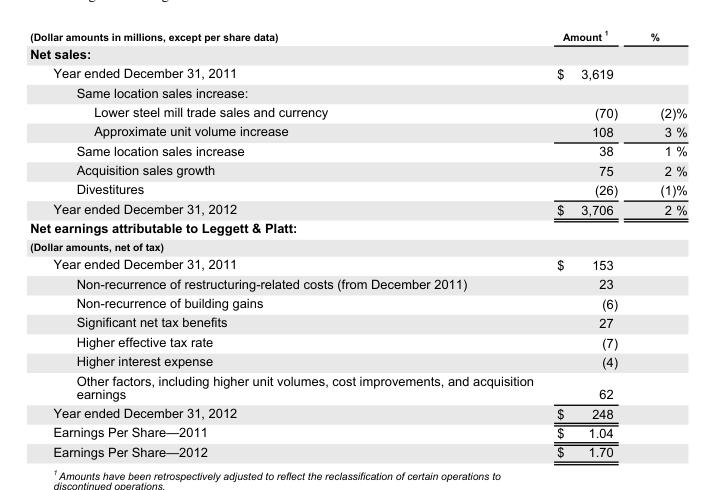table: (29, 28, 686, 459)
table column: (29, 28, 544, 459), (544, 28, 659, 459), (659, 28, 686, 459)
table column header: (29, 28, 686, 43)
table projected row header: (29, 43, 686, 62), (29, 82, 686, 101), (29, 218, 686, 237), (29, 237, 686, 254)
table row: (29, 370, 686, 403), (29, 62, 686, 82), (29, 101, 686, 121), (29, 140, 686, 160), (29, 179, 686, 199), (29, 273, 686, 293), (29, 312, 686, 332), (29, 43, 686, 62), (29, 82, 686, 101), (29, 121, 686, 140), (29, 160, 686, 179), (29, 199, 686, 218), (29, 218, 686, 237), (29, 254, 686, 273), (29, 293, 686, 312), (29, 332, 686, 351), (29, 351, 686, 370), (29, 403, 686, 422), (29, 422, 686, 441), (29, 441, 686, 459), (29, 237, 686, 254), (29, 28, 686, 43)
